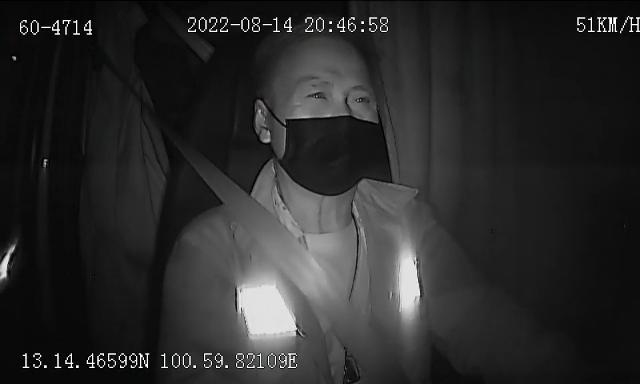SafeDriving: (298, 81, 334, 105), (344, 86, 378, 110)
Seatbelt: (177, 139, 366, 353)
